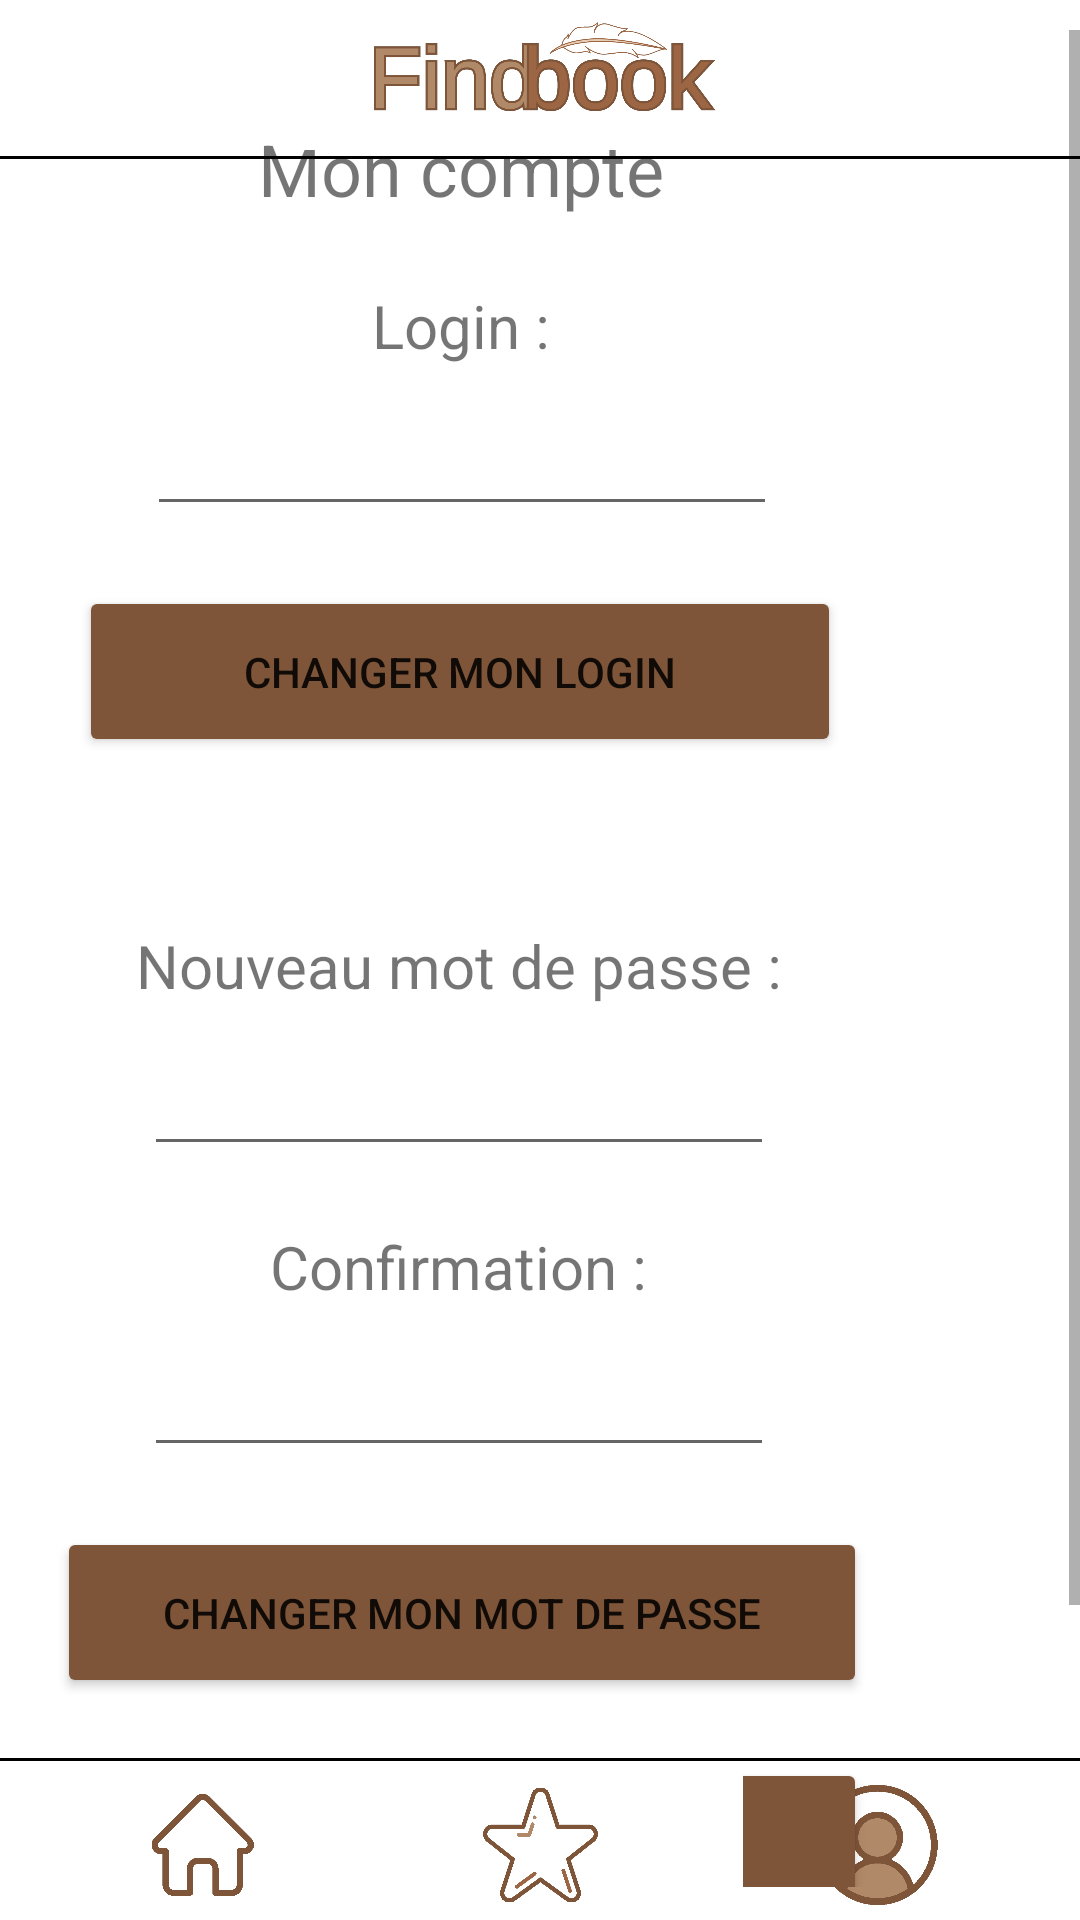

Where to tap for icons on this 1080px×1920px app screen, as (x,y):
favoris: (540,1845)
home: (203,1845)
